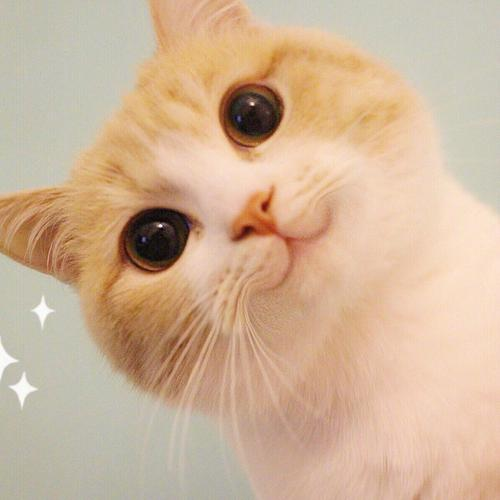cat: (5, 7, 444, 406)
